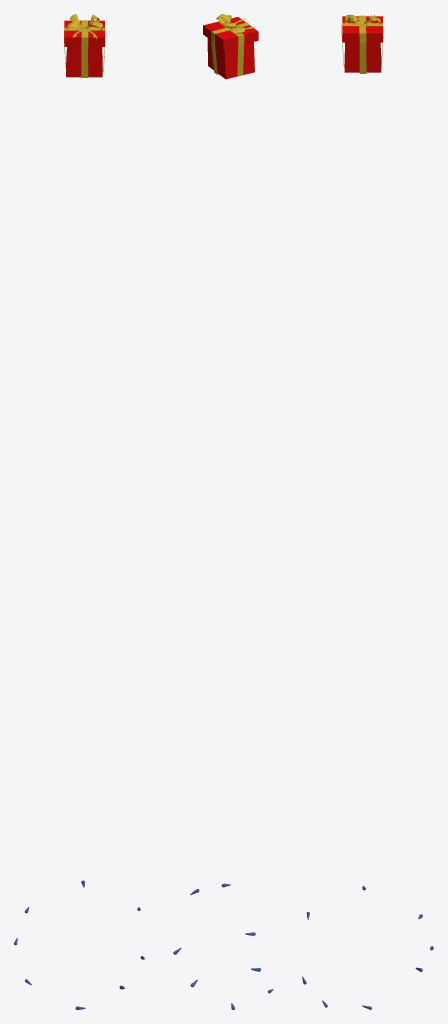
Rendered from regalo_animado_5.glb.
3 views of the same model, side by side, from view 1: azimuth 90°, elevation 25°; view 2: azimuth 210°, elevation 25°; view 3: azimuth 270°, elevation 25° (orthographic).
Parts seen in each view (by area): view 1: Cube; view 2: Cube; view 3: Cube.
Boxes of the visible parts, <box> form: Cube: <box>64,14,105,77</box>; Cube: <box>203,14,258,79</box>; Cube: <box>341,14,383,73</box>.
Bounding box in the file's own units: 16.98 × 323 × 38.65.
Materials: 9 (9 with a texture image).
